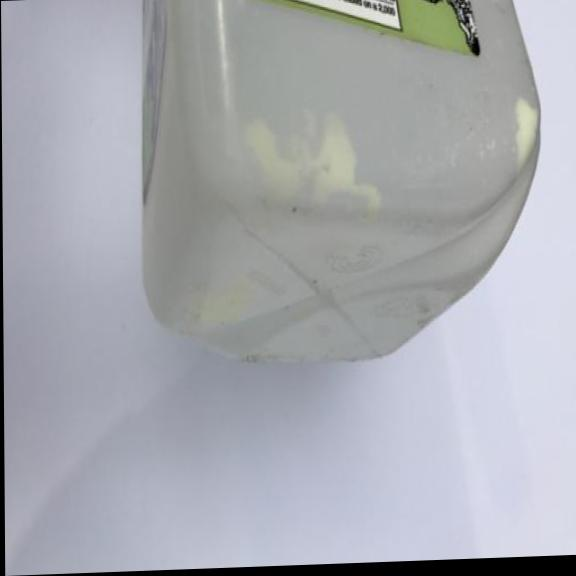Plastik: (137, 0, 543, 375)
